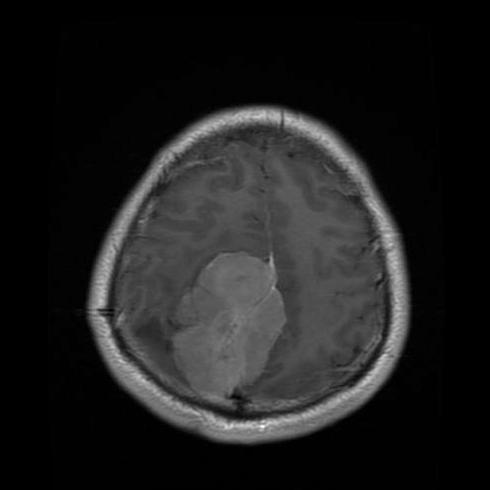Tumour-Pituitary: (155, 241, 314, 405)
